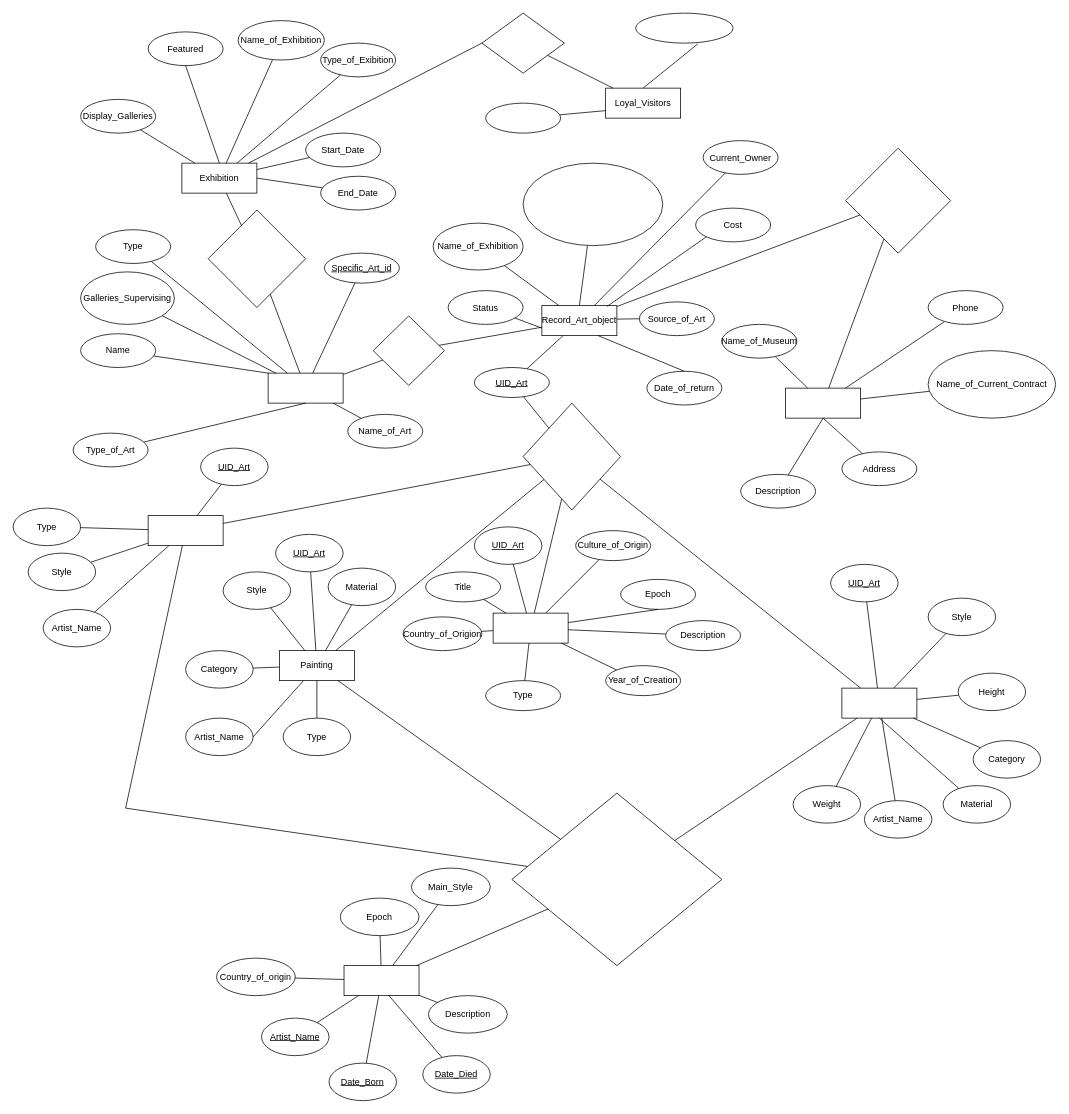
This 1069x1114 diagram has some shape labels left out. The shapes that lost their labels are listed below. From the top down, each one's centre as x and y in pixels, then its label:
At pixel 522 42: "Preference".
At pixel 684 27: "Exhibition_Preference".
At pixel 523 117: "U_Loyalty_no".
At pixel 592 204: "Date_of_Acquisition/Borrow".
At pixel 898 200: "Art Current owner identifier".
At pixel 256 258: "Supervision_factor".
At pixel 408 350: "Responsibility".
At pixel 305 387: "Staff".
At pixel 823 402: "Arts_Friend_Circle".
At pixel 571 456: "Data Inter-relation via Unique Art ID".
At pixel 185 530: "others".
At pixel 530 627: "PublicArt_Object".
At pixel 879 702: "Sculpture_Statue".
At pixel 616 879: "Data Inter-relation via Artist_Name to provide details".
At pixel 381 980: "Artists".
